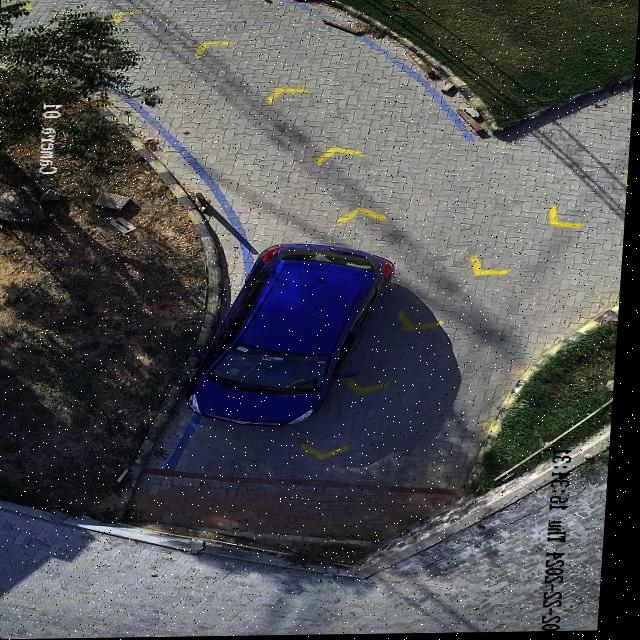car: (188, 243, 396, 428)
